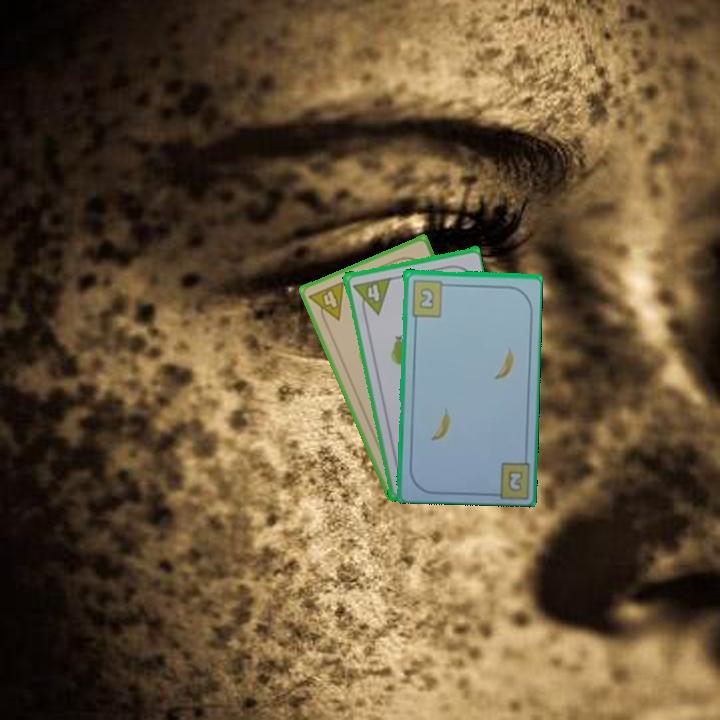2b: (408, 276, 451, 319), (504, 466, 526, 495)
4p: (305, 277, 347, 328), (361, 276, 393, 315)
